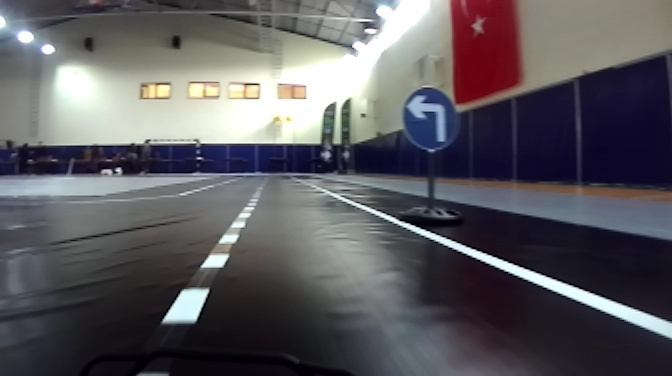sola_donus: (398, 84, 464, 156)
